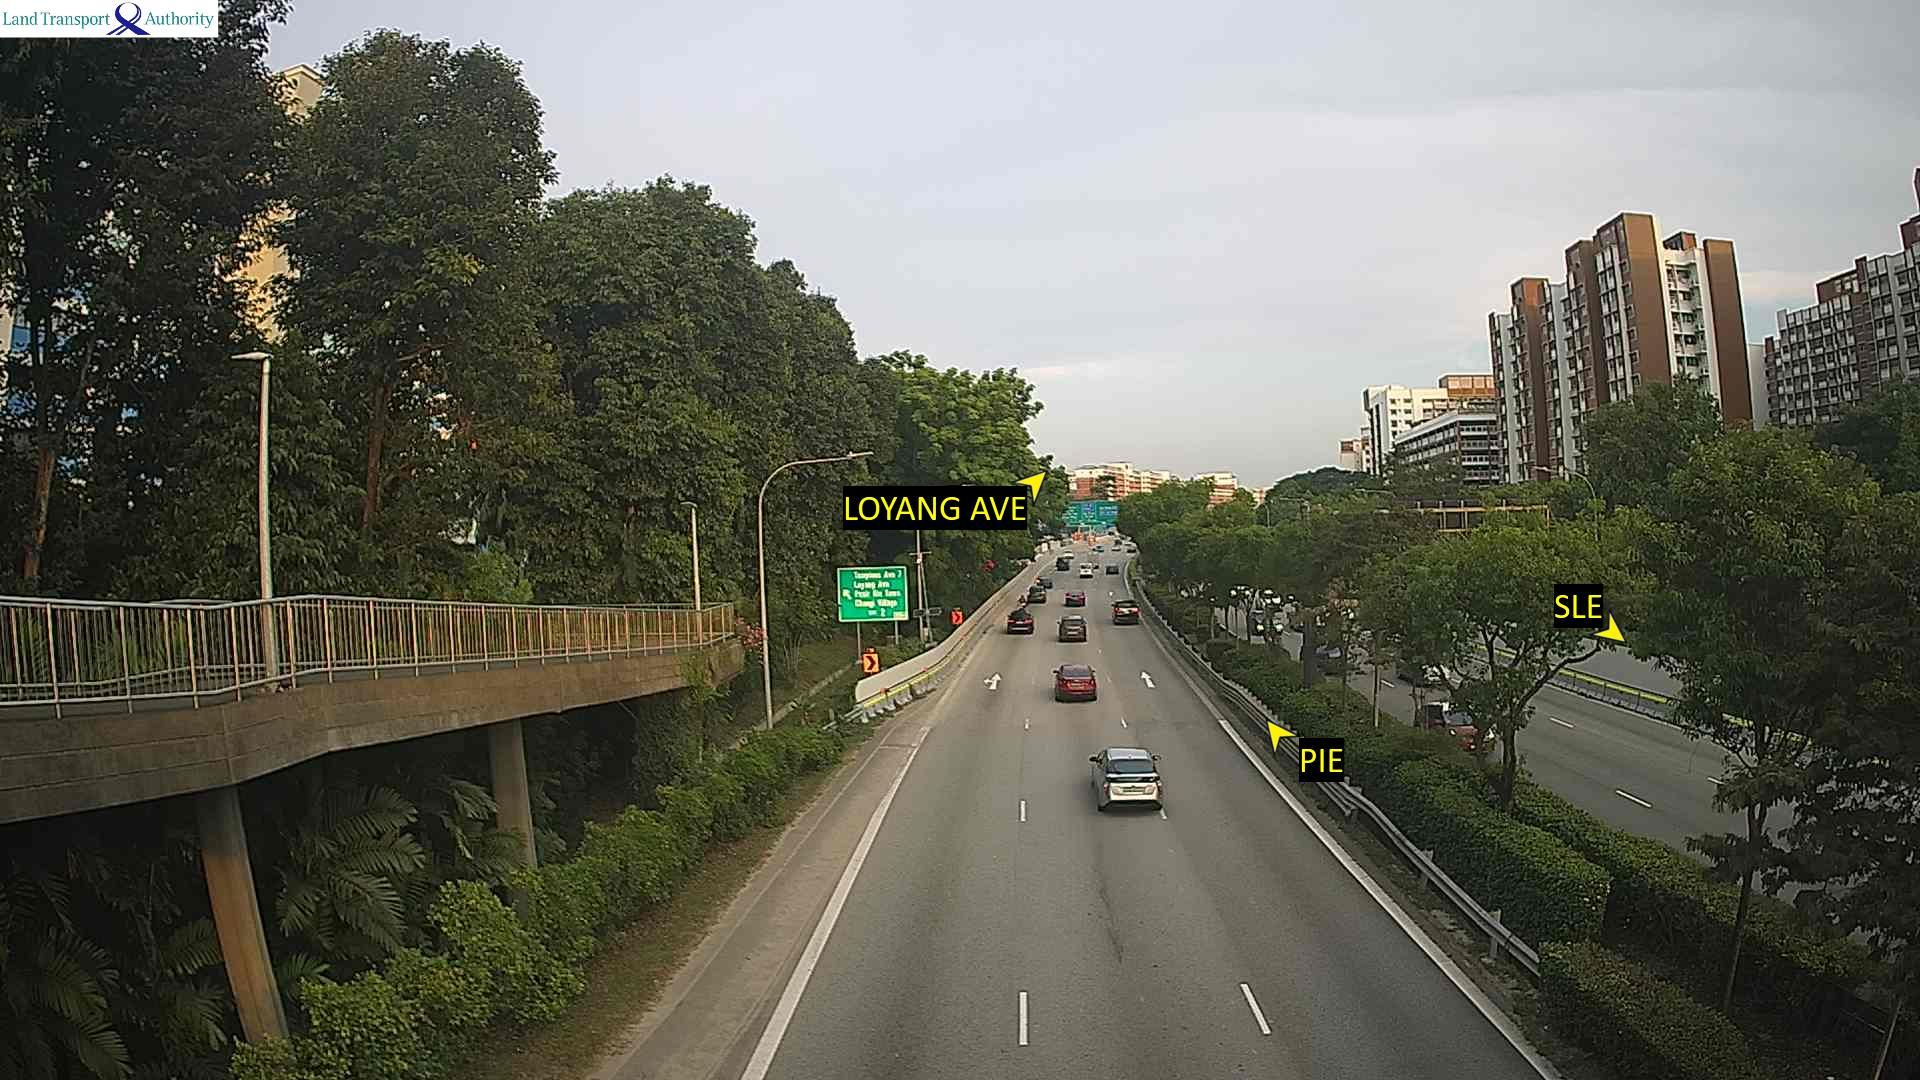cars: (1087, 745, 1163, 811), (1416, 700, 1496, 753), (1051, 662, 1097, 702), (1246, 607, 1298, 641), (1057, 614, 1086, 641), (1005, 607, 1033, 634), (1111, 598, 1140, 624), (1063, 588, 1085, 606), (1025, 584, 1045, 602), (1054, 553, 1072, 570), (1077, 562, 1095, 578), (1103, 561, 1119, 574), (1036, 574, 1052, 587), (1090, 542, 1104, 553)
